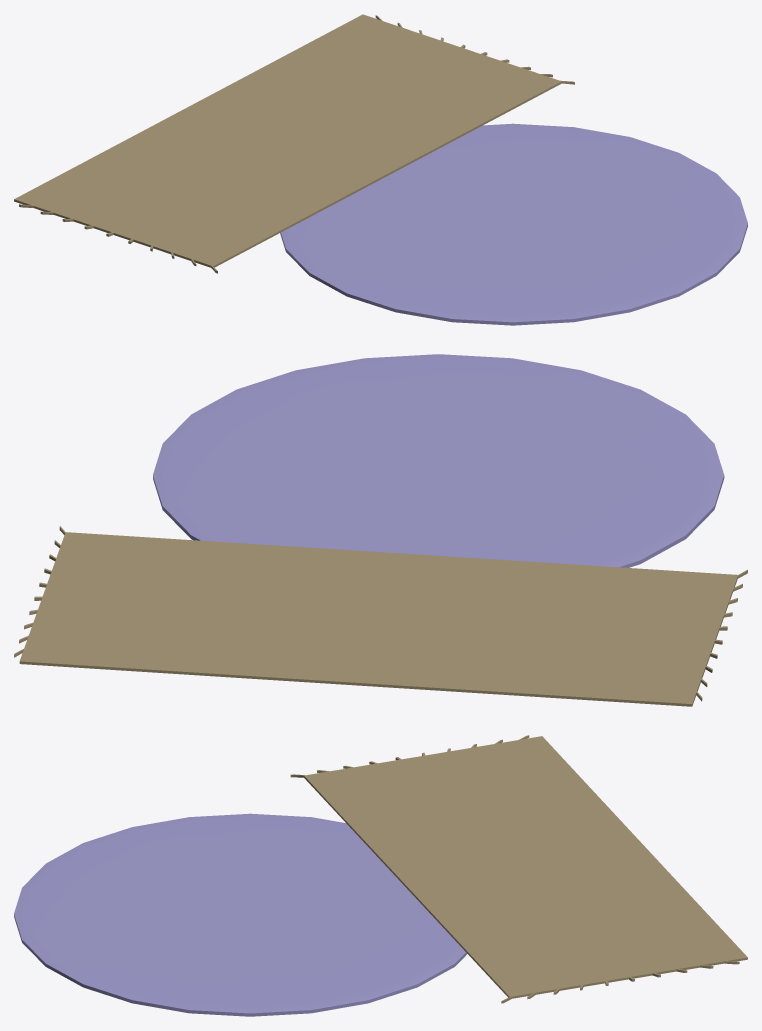
The model's file is colored carpets.fbx.
The picture shows the model from 3 angles, top to bottom: view 1: azimuth 30°, elevation 25°; view 2: azimuth 150°, elevation 25°; view 3: azimuth 270°, elevation 25°; orthographic projection. The views are drawn at different scales.
Parts seen in each view (by area): view 1: polySurface2, polySurface1; view 2: polySurface2, polySurface1; view 3: polySurface2, polySurface1.
Part boxes in pixels (left/top/right/bottom): polySurface2: left=280, top=123, right=747, bottom=325; polySurface1: left=14, top=14, right=574, bottom=273; polySurface2: left=153, top=354, right=724, bottom=567; polySurface1: left=14, top=526, right=747, bottom=706; polySurface2: left=14, top=813, right=467, bottom=1016; polySurface1: left=290, top=735, right=747, bottom=1003.
Size of the model in its own units: 19.45 by 0.2402 by 22.
